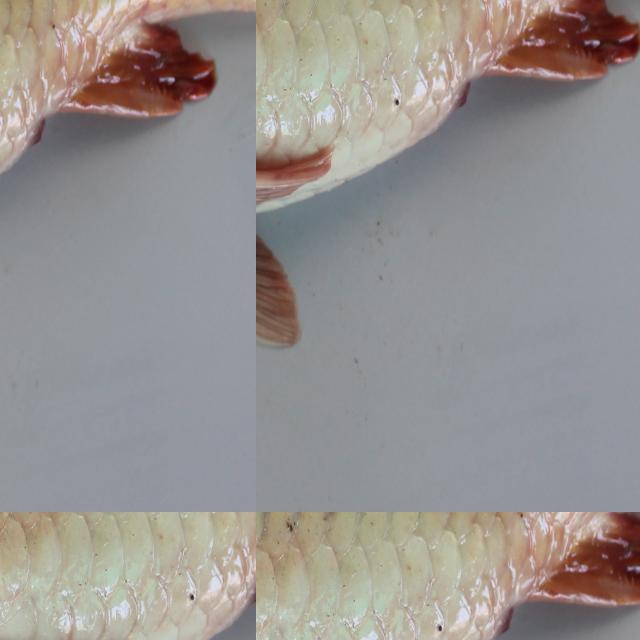fish: (256, 512, 640, 640)
